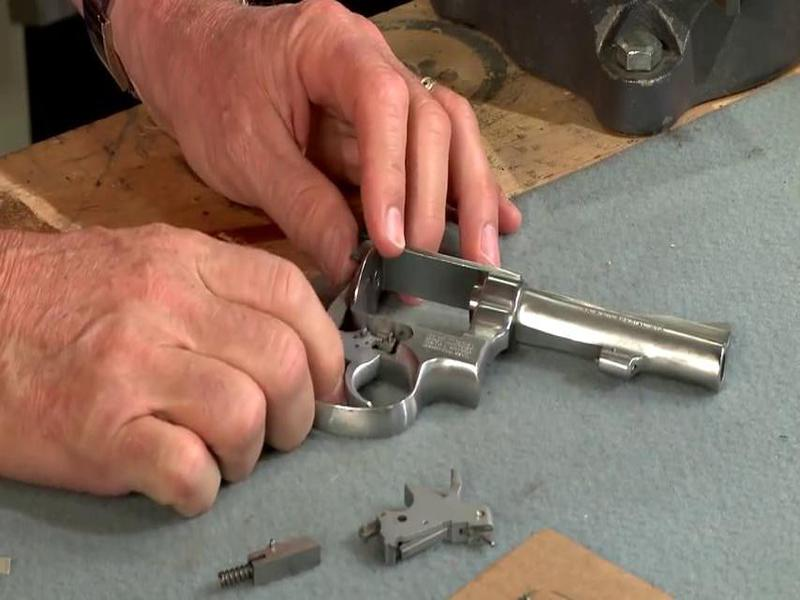Revolver: (234, 199, 749, 474)
